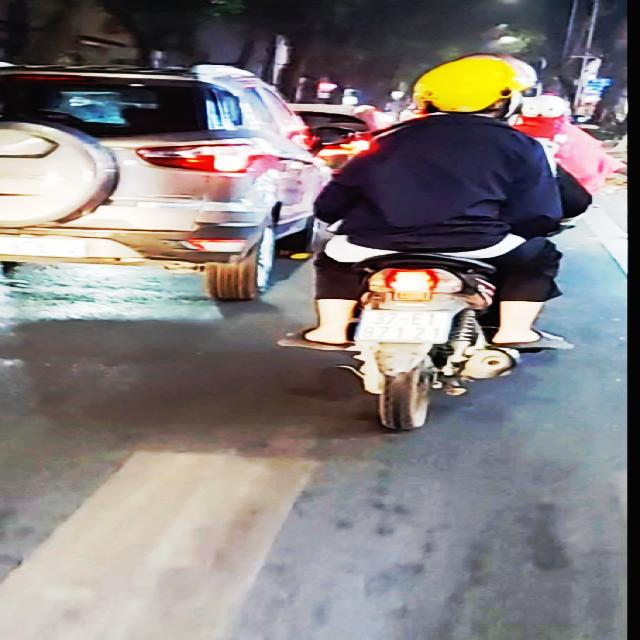license_plate: (350, 309, 459, 347)
